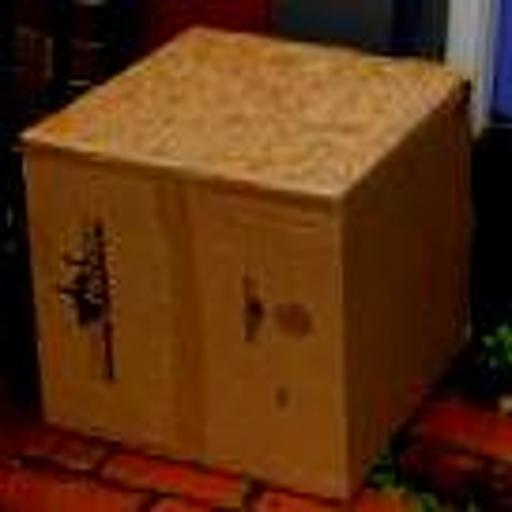Other: (16, 35, 479, 488)
